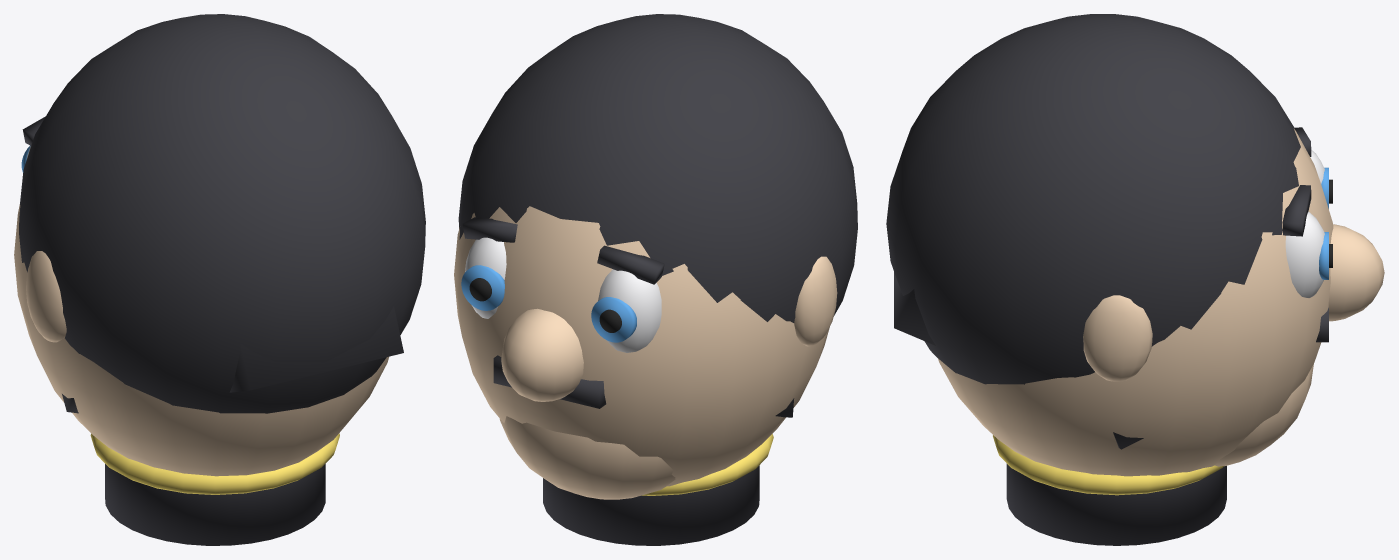
Rendered from bukele_head.glb.
3 renders of one model, left to right at view 1: azimuth 30°, elevation 25°; view 2: azimuth 150°, elevation 25°; view 3: azimuth 270°, elevation 25°, orthographic.
Parts seen in each view (by area): view 1: BukeleHeadN64; view 2: BukeleHeadN64; view 3: BukeleHeadN64.
Part boxes in pixels (x1,y1,x2,y2): BukeleHeadN64: (14, 14, 425, 545); BukeleHeadN64: (454, 14, 857, 545); BukeleHeadN64: (886, 14, 1384, 545).
Size of the model in its own units: 2.08 by 2.58 by 2.49.
